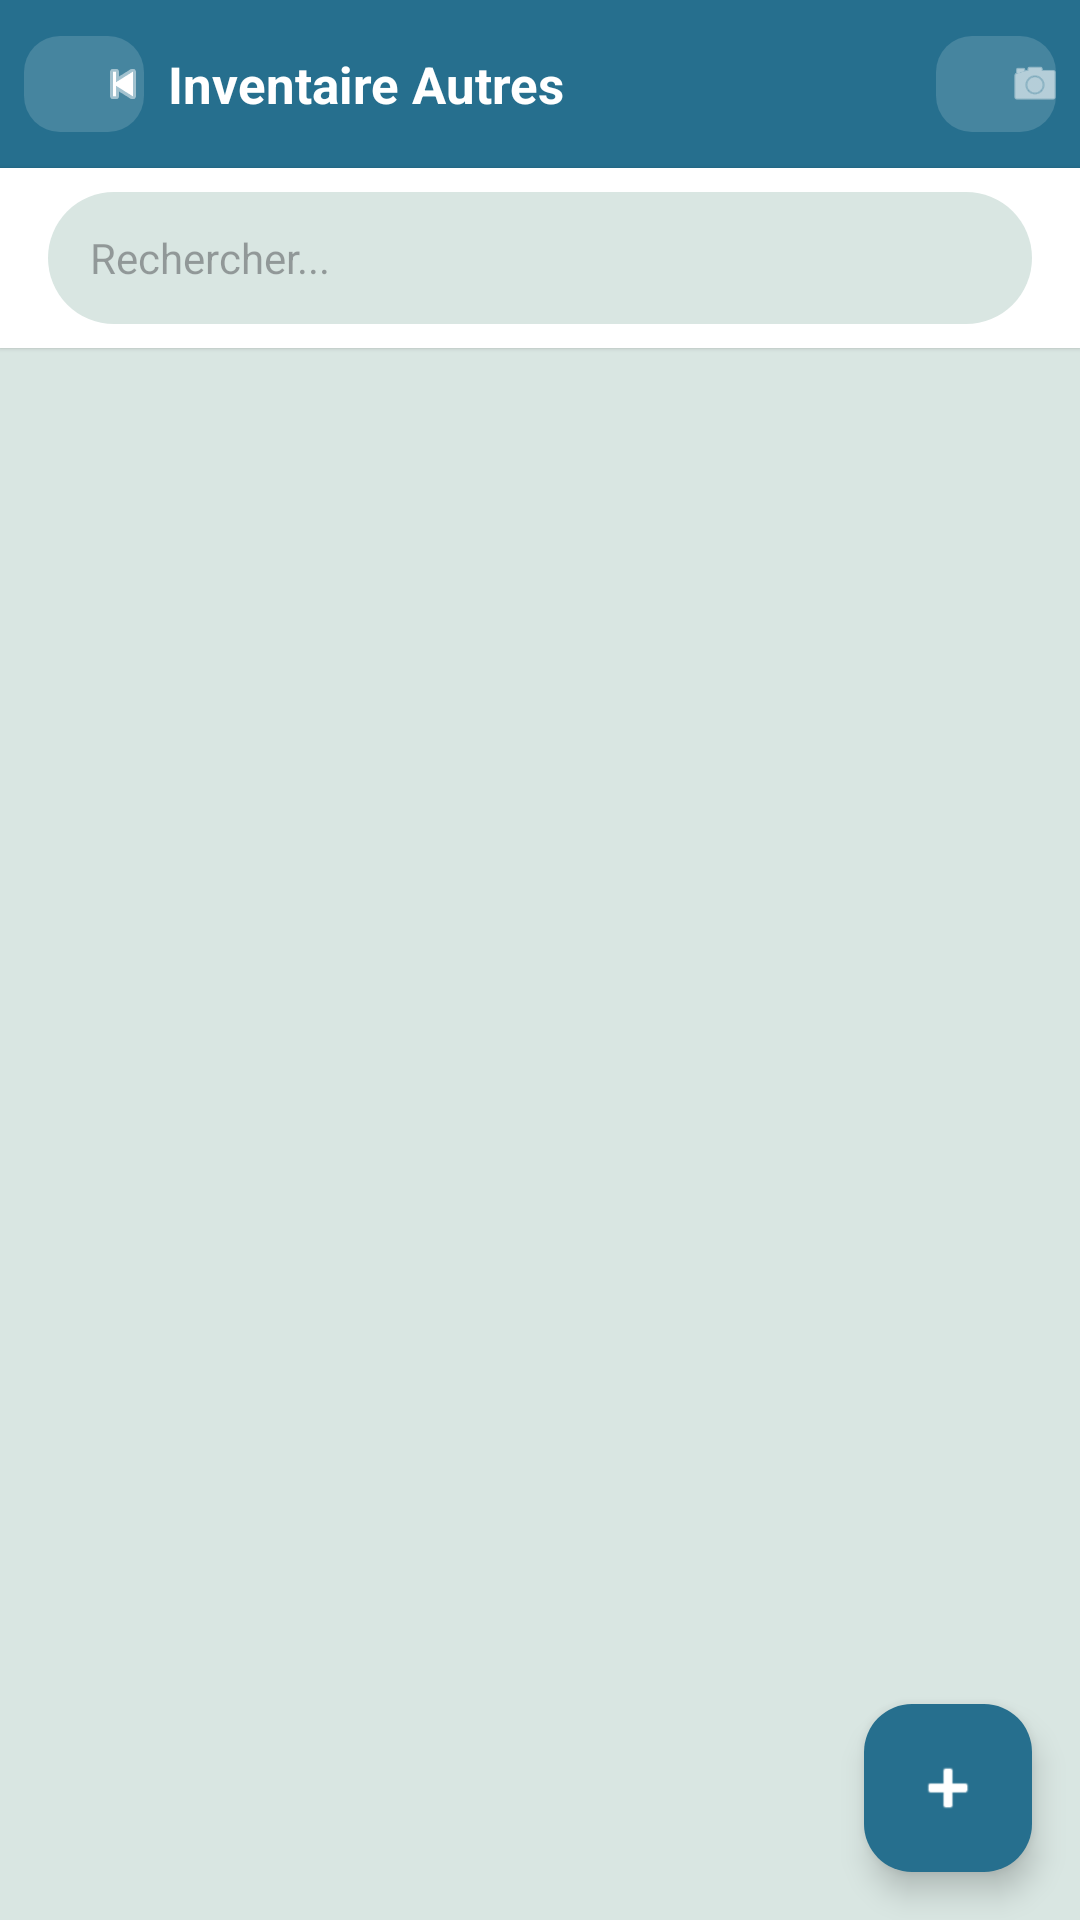

Named icons in this screenshot (1080w x 1920h) and their bounding boxes, (x1,y1,x2,y2):
camera: (936,36,1056,132)
Nouveau: (864,1704,1032,1872)
previous: (24,36,144,132)
